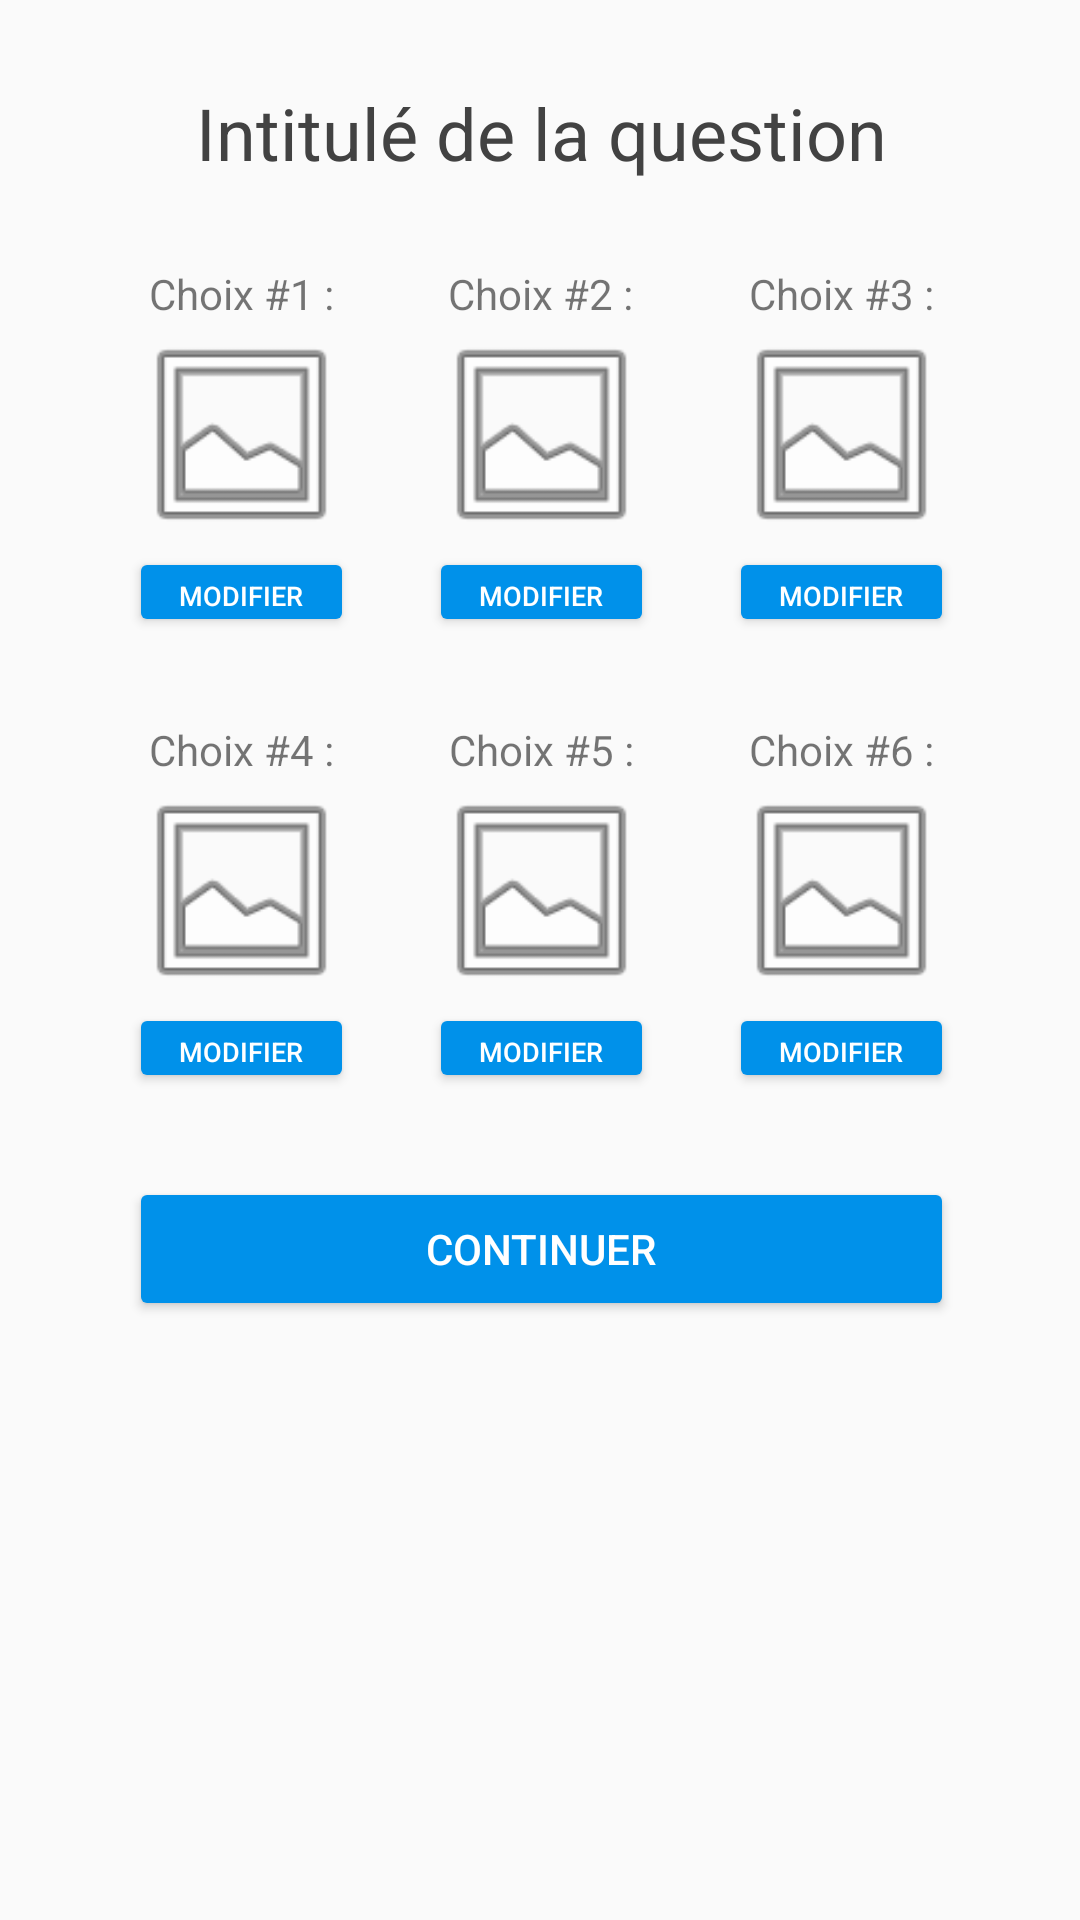

Icons on this 1080*1920 Android screen, each with the point to tap as (x=x, y=y):
gallery: (x=241, y=434), (x=541, y=434), (x=841, y=434), (x=241, y=890), (x=541, y=890), (x=841, y=890)
